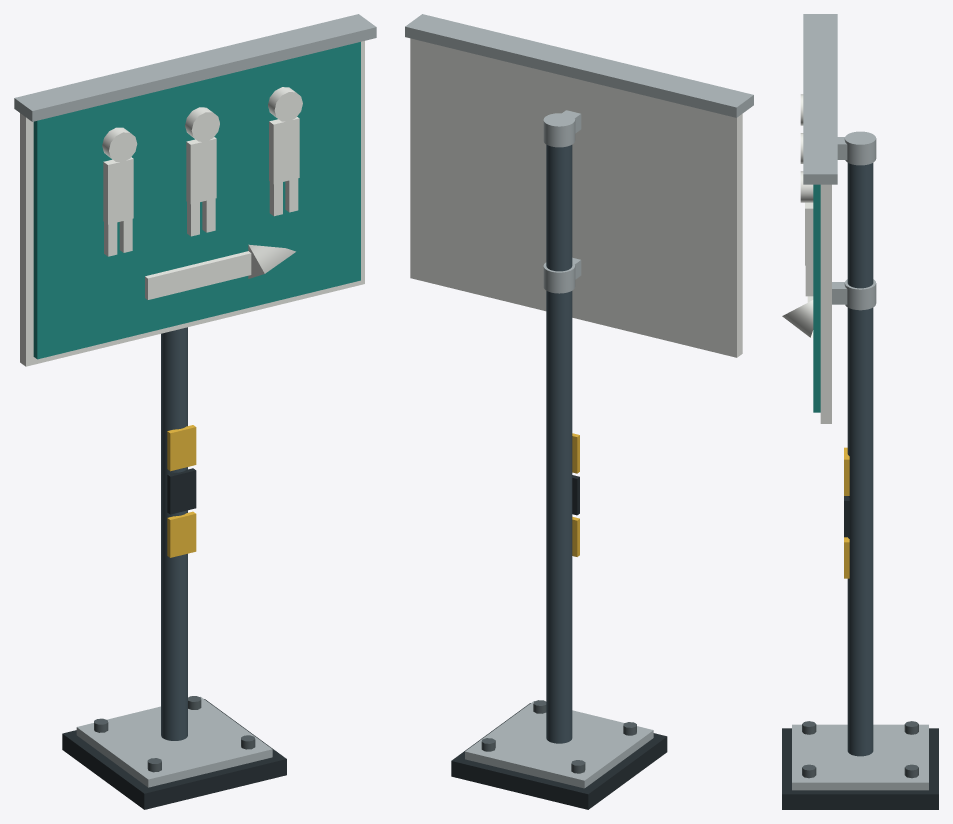
The model's file is muster_sign.glb.
The picture shows the model from 3 angles, left to right: view 1: azimuth 30°, elevation 25°; view 2: azimuth 150°, elevation 25°; view 3: azimuth 270°, elevation 25°; orthographic projection. The views are drawn at different scales.
Parts seen in each view (by area): view 1: muster_sign__body; view 2: muster_sign__body; view 3: muster_sign__body.
Part boxes in pixels (<box>): muster_sign__body: <box>14,14,376,809</box>; muster_sign__body: <box>405,14,753,809</box>; muster_sign__body: <box>782,14,938,809</box>.
Size of the model in its own units: 1.33 by 2.64 by 0.55.
